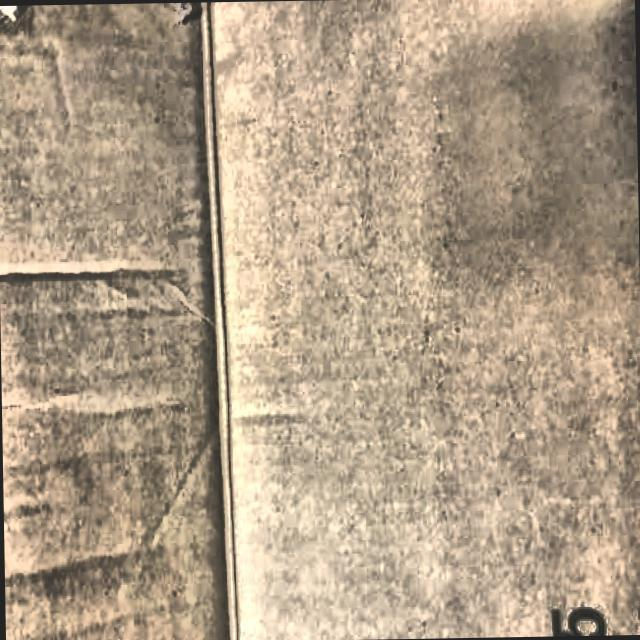cardboard: (0, 1, 235, 640)
